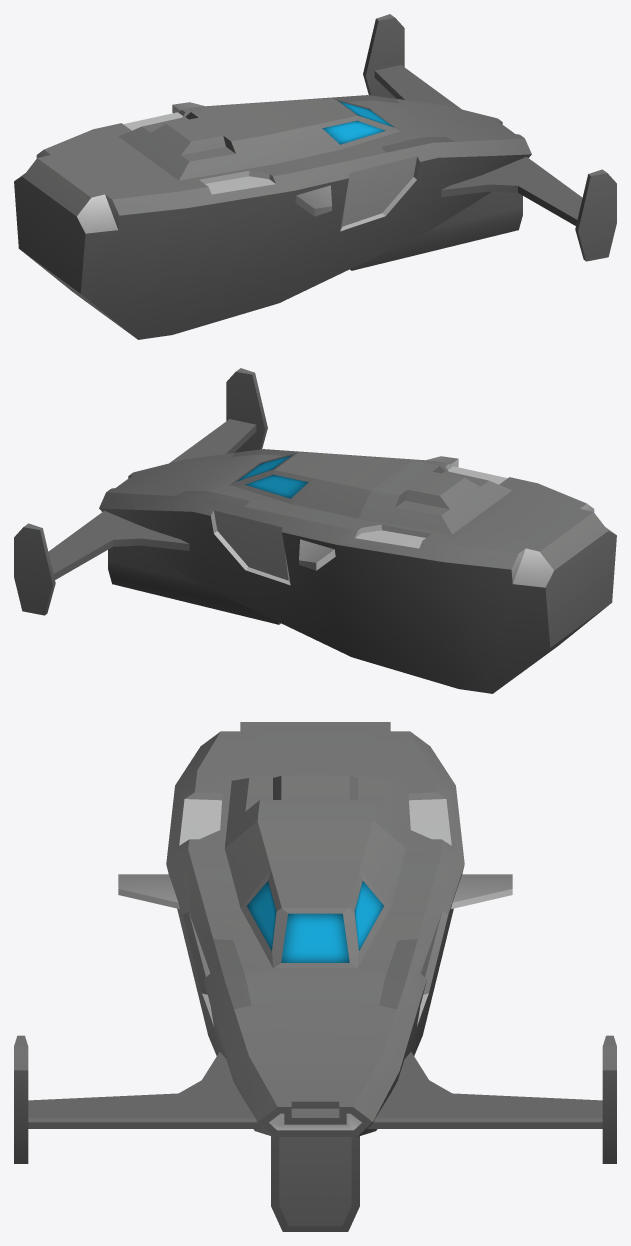
File: hull1.fbx
3 renders of one model, top to bottom at view 1: azimuth 30°, elevation 25°; view 2: azimuth 150°, elevation 25°; view 3: azimuth 270°, elevation 25°, orthographic. The views are drawn at different scales.
Parts seen in each view (by area): view 1: hull1.0, hull1.007, hull1.005, hull1.010, hull1.001, hull1.006, hull1.002, hull1.003; view 2: hull1.011, hull1.007, hull1.005, hull1.010, hull1.002, hull1.006, hull1.001, hull1.0, hull1.004; view 3: hull1.007, hull1.005, hull1.001, hull1.002, hull1.006, hull1.0, hull1.009, hull1.011, hull1.003, hull1.004.
Boxes of the visible parts, x1=… form: hull1.0: x1=15, y1=121, x2=531, y2=339; hull1.007: x1=37, y1=95, x2=531, y2=215; hull1.005: x1=118, y1=98, x2=400, y2=180; hull1.010: x1=14, y1=158, x2=133, y2=336; hull1.001: x1=441, y1=157, x2=616, y2=261; hull1.006: x1=350, y1=191, x2=522, y2=270; hull1.002: x1=363, y1=14, x2=461, y2=109; hull1.003: x1=295, y1=185, x2=331, y2=216; hull1.011: x1=99, y1=508, x2=550, y2=693; hull1.007: x1=99, y1=449, x2=593, y2=569; hull1.005: x1=230, y1=452, x2=512, y2=534; hull1.010: x1=497, y1=512, x2=616, y2=690; hull1.002: x1=14, y1=511, x2=189, y2=615; hull1.006: x1=108, y1=545, x2=280, y2=624; hull1.001: x1=169, y1=368, x2=267, y2=463; hull1.0: x1=128, y1=475, x2=615, y2=587; hull1.004: x1=299, y1=539, x2=335, y2=570; hull1.007: x1=166, y1=722, x2=464, y2=1121; hull1.005: x1=224, y1=775, x2=406, y2=968; hull1.001: x1=14, y1=1035, x2=263, y2=1163; hull1.002: x1=367, y1=1035, x2=616, y2=1163; hull1.006: x1=271, y1=1135, x2=359, y2=1231; hull1.0: x1=166, y1=866, x2=339, y2=1136; hull1.009: x1=258, y1=1107, x2=372, y2=1136; hull1.011: x1=357, y1=866, x2=464, y2=1136; hull1.003: x1=118, y1=874, x2=179, y2=908; hull1.004: x1=451, y1=874, x2=512, y2=908.
Size of the model in its own units: 3.26 by 1.14 by 2.66.
